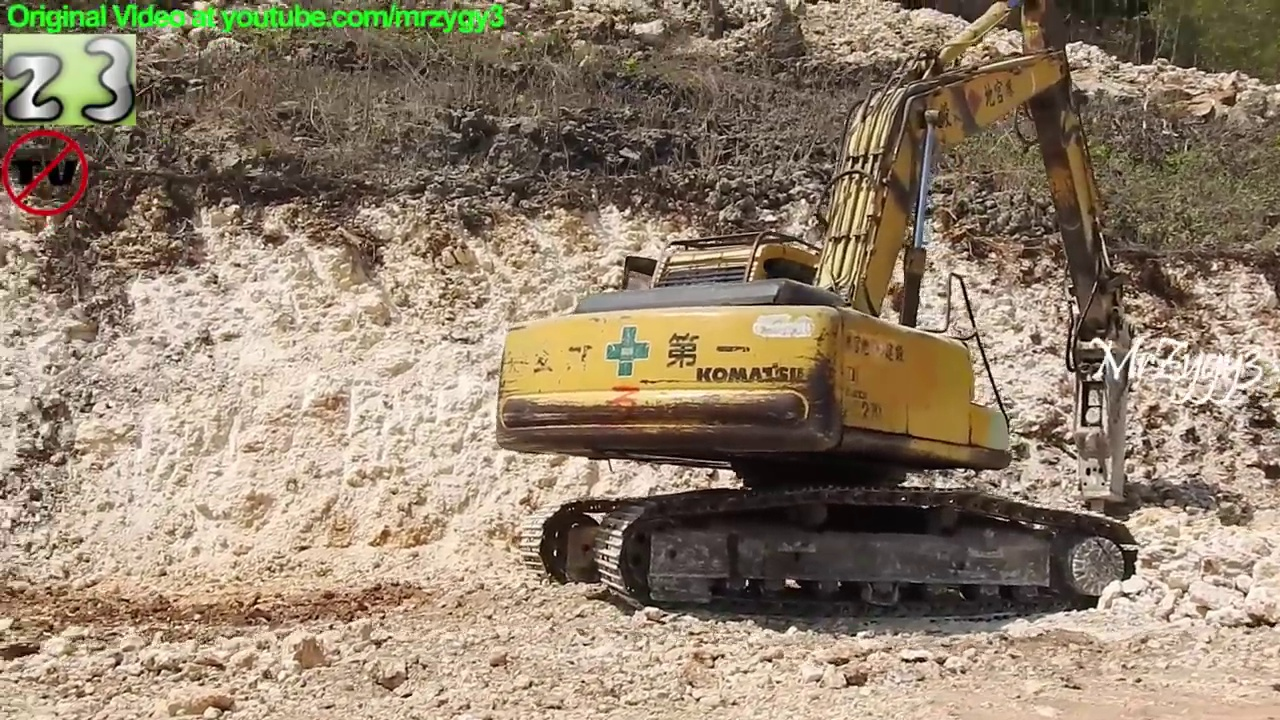excavator breaker: (484, 1, 1154, 641)
